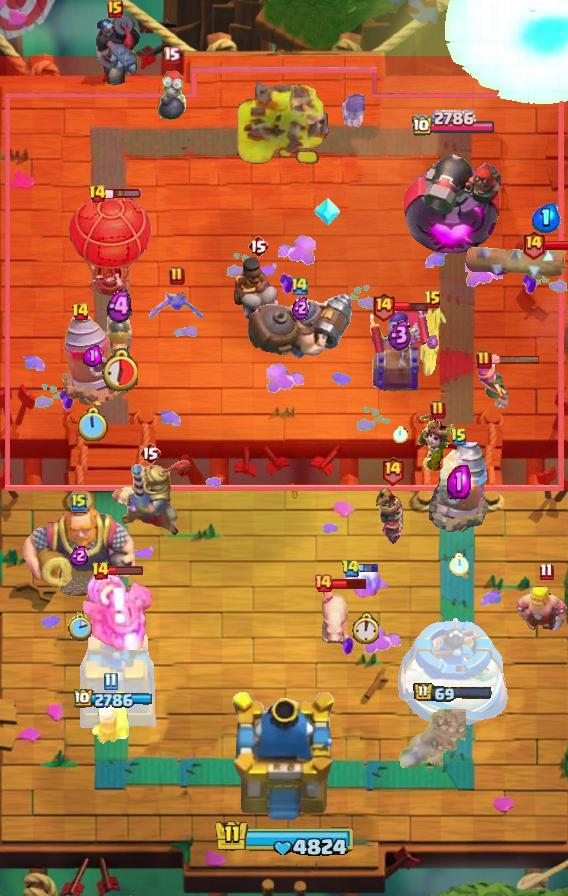archer: (516, 586, 568, 630)
barbarian: (148, 290, 206, 324)
bomber-evolution: (416, 412, 460, 473), (374, 486, 410, 548), (419, 304, 447, 376)
cannon: (475, 362, 511, 412)
cannon-cart: (68, 195, 152, 297)
clock: (210, 818, 358, 860)
electro-spirit: (532, 203, 561, 233), (108, 289, 133, 323), (447, 465, 471, 499), (388, 319, 412, 351), (291, 296, 309, 320), (70, 546, 90, 567), (83, 345, 102, 367), (427, 334, 439, 349)
elite-barbarian: (232, 254, 284, 328)
elixir: (102, 348, 139, 391), (76, 407, 108, 444), (351, 612, 379, 644), (67, 612, 92, 641), (449, 552, 469, 575), (392, 426, 407, 442)
emote: (489, 355, 541, 366), (331, 578, 368, 591), (394, 300, 430, 313), (106, 188, 143, 200), (107, 565, 145, 576), (544, 239, 568, 251), (357, 563, 379, 574)
executioner: (104, 306, 134, 352)
fisherman: (397, 709, 466, 771)
giant: (318, 585, 352, 647)
giant-skeleton: (21, 502, 137, 602)
goblin: (341, 94, 372, 132)
ice-golem: (154, 70, 188, 124)
inferno-dragon: (84, 15, 146, 91)
king-tower: (227, 692, 341, 826)
magic-archer: (62, 312, 122, 406), (429, 441, 489, 533)
mega-knight: (440, 0, 568, 108)
minion: (465, 242, 568, 280)
mirror: (340, 564, 390, 602)
night-witch: (75, 574, 157, 650)
pad_2: (313, 196, 341, 228)
queen-tower: (395, 614, 514, 730), (64, 621, 164, 731)
ram-rider: (109, 458, 191, 538)
selected: (412, 110, 497, 138), (73, 689, 154, 711), (413, 682, 493, 704)
skeleton-king-bar: (369, 302, 431, 394)
text: (522, 228, 547, 259), (371, 291, 396, 322), (380, 455, 405, 486), (247, 234, 269, 258), (139, 441, 161, 465), (290, 275, 310, 296), (70, 302, 90, 322), (313, 573, 333, 593), (88, 184, 107, 204), (90, 561, 109, 581), (340, 559, 359, 578), (424, 290, 442, 310), (450, 427, 468, 447), (163, 47, 181, 65), (169, 266, 185, 286), (476, 350, 492, 370), (430, 400, 446, 420), (71, 492, 87, 512), (107, 0, 123, 18), (539, 563, 554, 581), (103, 673, 117, 692)
tombstone: (89, 688, 131, 746)
tower-bar: (403, 138, 503, 256)
wizard: (244, 291, 356, 361)
